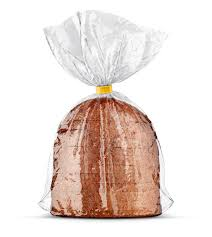bread: (31, 20, 173, 218)
